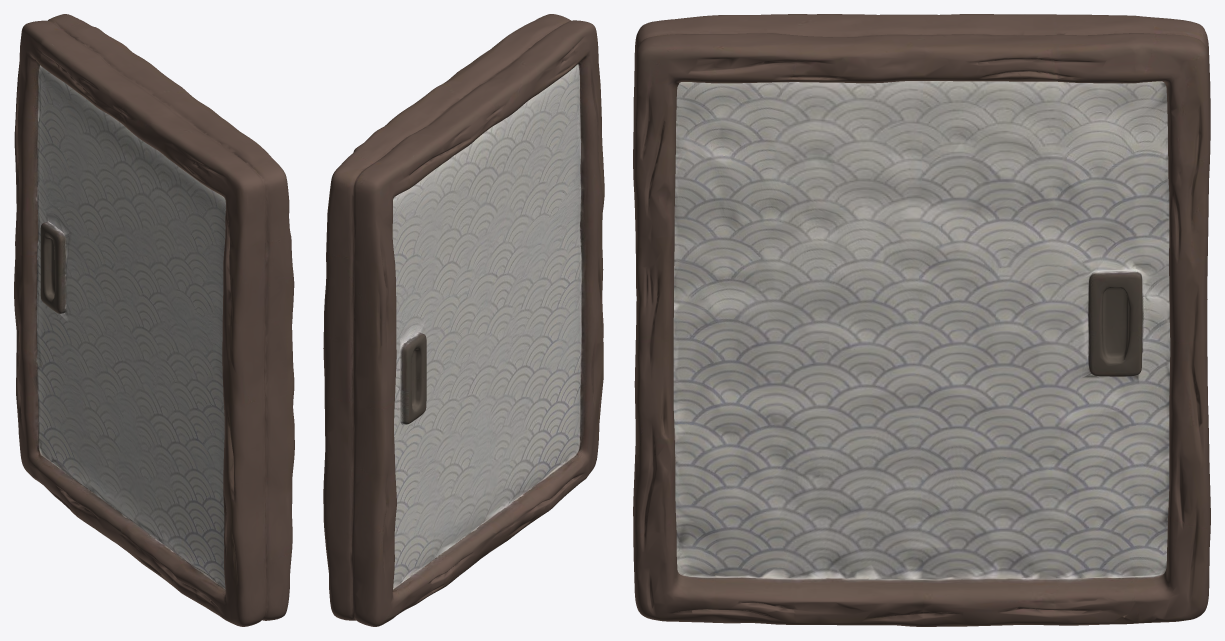
The model's file is JP_사물_s2_wall_fusuma_old.glb.
3 views of the same model, side by side, from view 1: azimuth 30°, elevation 25°; view 2: azimuth 150°, elevation 25°; view 3: azimuth 270°, elevation 25° (orthographic). The views are drawn at different scales.
Parts seen in each view (by area): view 1: tripo_node_7466cbb2-bee9-458b-a068-36dcf0be0a65; view 2: tripo_node_7466cbb2-bee9-458b-a068-36dcf0be0a65; view 3: tripo_node_7466cbb2-bee9-458b-a068-36dcf0be0a65.
Part boxes in pixels (<box>): tripo_node_7466cbb2-bee9-458b-a068-36dcf0be0a65: <box>14,14,294,626</box>; tripo_node_7466cbb2-bee9-458b-a068-36dcf0be0a65: <box>323,14,604,626</box>; tripo_node_7466cbb2-bee9-458b-a068-36dcf0be0a65: <box>633,14,1210,626</box>.
Bounding box in the file's own units: 0.1549 × 0.9999 × 0.8988.
Materials: 1 (1 with a texture image).
